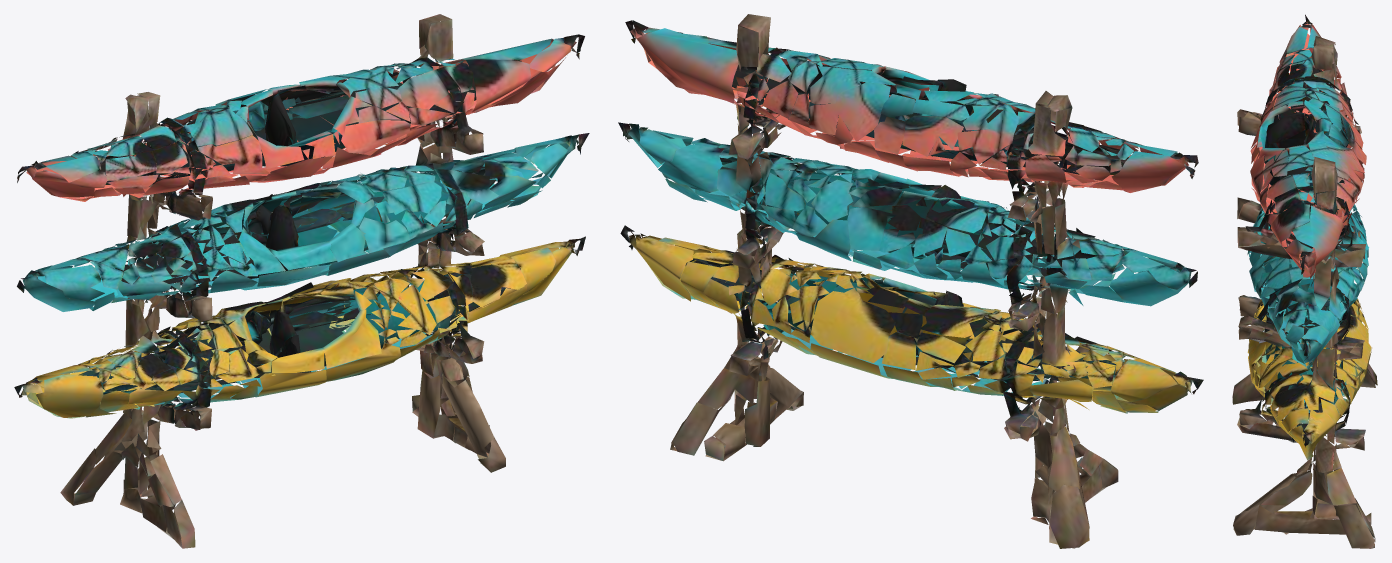
File: kayak-rack.glb
3 renders of one model, left to right at view 1: azimuth 30°, elevation 25°; view 2: azimuth 150°, elevation 25°; view 3: azimuth 270°, elevation 25°, orthographic. The views are drawn at different scales.
Parts seen in each view (by area): view 1: Mesh_0; view 2: Mesh_0; view 3: Mesh_0.
Part boxes in pixels (x1=…): Mesh_0: x1=14, y1=14, x2=589, y2=548; Mesh_0: x1=618, y1=14, x2=1203, y2=548; Mesh_0: x1=1232, y1=14, x2=1377, y2=548.
Bounding box in the file's own units: 1.91 × 1.34 × 0.4778.
1 material, 1 textured.
